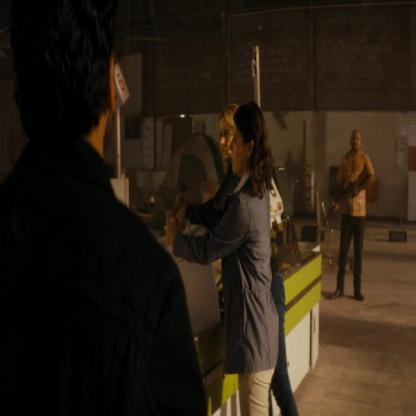Gun: (321, 166, 371, 228)
